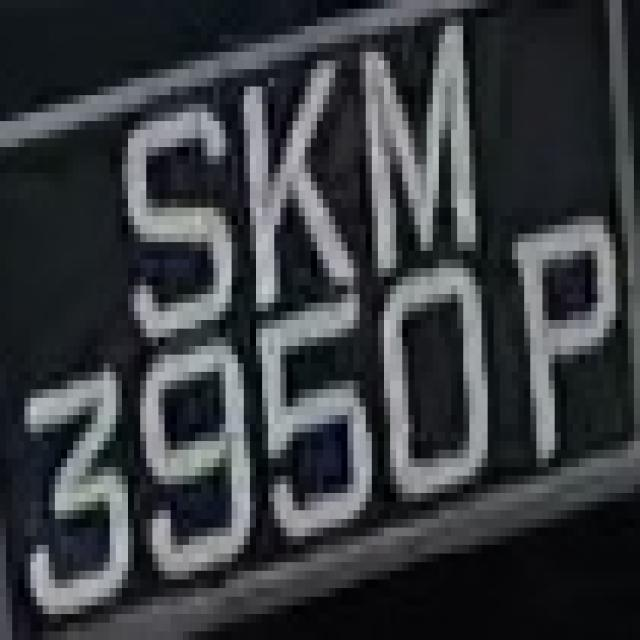0: (372, 260, 506, 510)
3: (12, 363, 140, 614)
5: (250, 276, 384, 554)
9: (128, 337, 256, 588)
K: (225, 60, 354, 328)
M: (348, 17, 488, 268)
P: (500, 208, 634, 484)
S: (104, 78, 232, 328)
